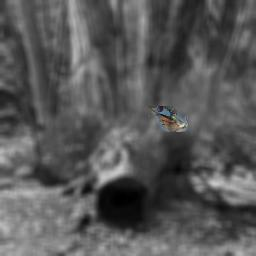Cuckoo: (148, 106, 188, 132)
